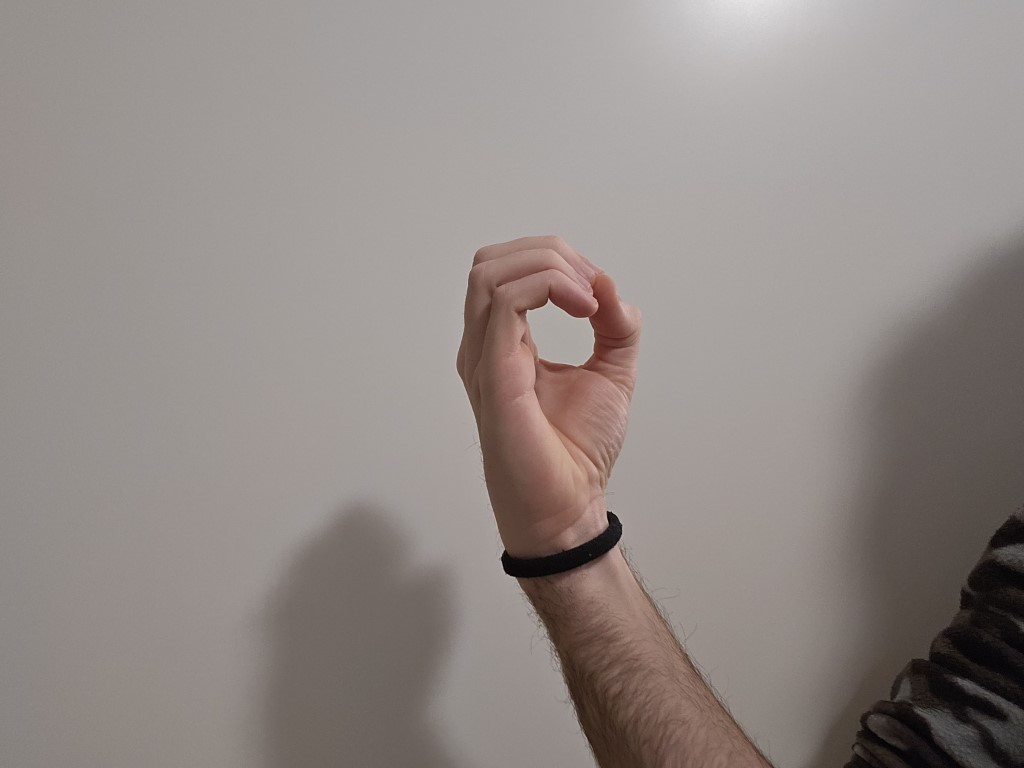o: (436, 220, 657, 514)
